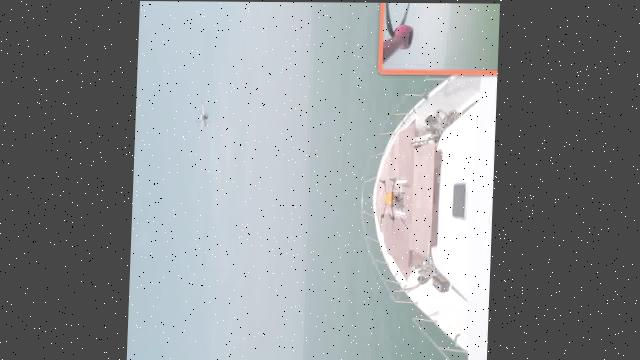drone: (371, 177, 413, 231), (191, 97, 230, 154)
